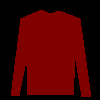abbigliamento_uomo: (10, 9, 91, 97)
